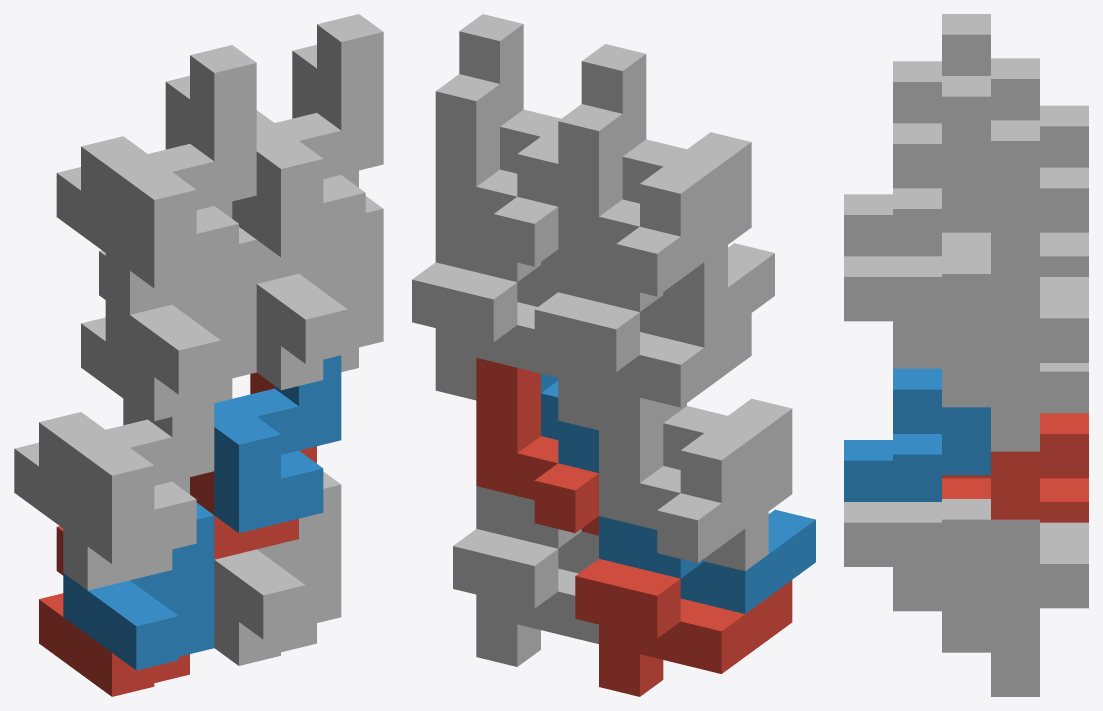
The model's file is tiling.obj.
The picture shows the model from 3 angles, left to right: view 1: azimuth 30°, elevation 25°; view 2: azimuth 150°, elevation 25°; view 3: azimuth 270°, elevation 25°; orthographic projection. The views are drawn at different scales.
Parts seen in each view (by area): view 1: copy_2_domain_4, copy_2_domain_8, copy_2_domain_2, copy_2_domain_6, copy_1_domain_2, copy_1_domain_4, copy_1_domain_6, copy_1_domain_8, copy_2_domain_3, copy_2_domain_1, copy_1_domain_1, copy_1_domain_3 (+4 smaller); view 2: copy_2_domain_3, copy_1_domain_1, copy_2_domain_1, copy_1_domain_3, copy_2_domain_4, copy_2_domain_7, copy_2_domain_5, copy_1_domain_5, copy_1_domain_7, copy_2_domain_2, copy_1_domain_2, copy_1_domain_4 (+4 smaller); view 3: copy_1_domain_8, copy_1_domain_6, copy_2_domain_8, copy_1_domain_5, copy_1_domain_7, copy_2_domain_7, copy_2_domain_6, copy_2_domain_5, copy_2_domain_3, copy_2_domain_4, copy_1_domain_4, copy_1_domain_2 (+3 smaller).
Boxes of the visible parts, box(x1,y1,x2,y2) form: copy_2_domain_4: box(81, 45, 256, 288); copy_2_domain_8: box(256, 14, 383, 257); copy_2_domain_2: box(39, 386, 214, 564); copy_2_domain_6: box(214, 355, 341, 533); copy_1_domain_2: box(63, 503, 214, 670); copy_1_domain_4: box(105, 227, 256, 394); copy_1_domain_6: box(214, 471, 341, 639); copy_1_domain_8: box(256, 196, 383, 363); copy_2_domain_3: box(56, 75, 232, 314); copy_2_domain_1: box(14, 399, 189, 590); copy_1_domain_1: box(39, 526, 189, 696); copy_1_domain_3: box(81, 250, 232, 420); copy_2_domain_3: box(558, 104, 727, 304); copy_1_domain_1: box(575, 559, 792, 696); copy_2_domain_1: box(599, 387, 768, 571); copy_1_domain_3: box(534, 292, 751, 430); copy_2_domain_4: box(581, 44, 751, 244); copy_2_domain_7: box(435, 74, 558, 268); copy_2_domain_5: box(476, 358, 598, 535); copy_1_domain_5: box(453, 529, 598, 666); copy_1_domain_7: box(412, 262, 558, 400); copy_2_domain_2: box(663, 398, 792, 510); copy_1_domain_2: box(599, 509, 815, 613); copy_1_domain_4: box(558, 243, 774, 347); copy_1_domain_8: box(844, 253, 1039, 407); copy_1_domain_6: box(844, 499, 1039, 652); copy_2_domain_8: box(893, 76, 990, 253); copy_1_domain_5: box(893, 522, 1088, 696); copy_1_domain_7: box(893, 277, 1088, 451); copy_2_domain_7: box(942, 120, 1088, 273); copy_2_domain_6: box(893, 368, 990, 498); copy_2_domain_5: box(942, 413, 1088, 519); copy_2_domain_3: box(991, 58, 1088, 167); copy_2_domain_4: box(893, 14, 990, 123); copy_1_domain_4: box(844, 194, 941, 256); copy_1_domain_2: box(844, 440, 941, 501).
Size of the model in its own units: 7 by 14 by 5.
